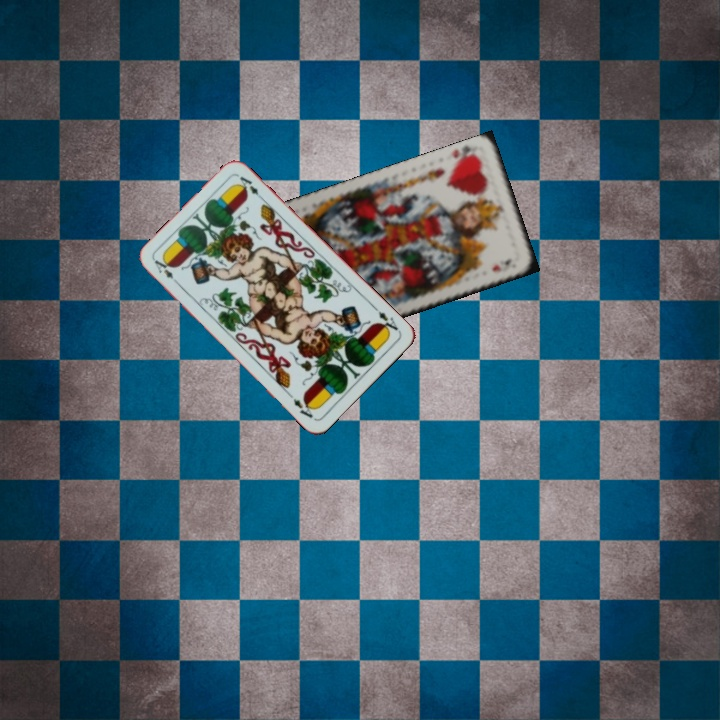EA: (369, 302, 401, 337), (150, 255, 183, 288)
HK: (447, 142, 481, 168)
